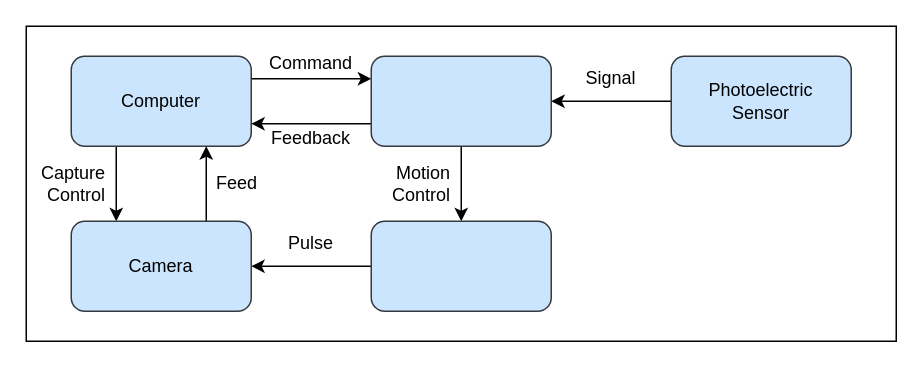
This 923x368 diagram has some shape labels left out. Here are the shapes that lost their labels. From the top down, the centre of each, then its label:
point 460,100: Microcontroller
point 460,265: Motor Stepper + Encoder
